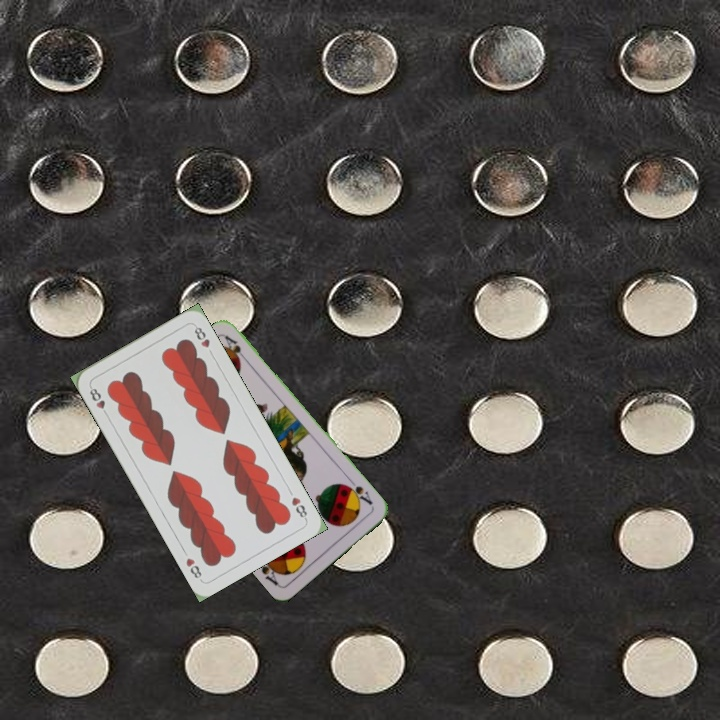H8: (85, 383, 111, 419), (287, 493, 310, 523)
SA: (341, 475, 375, 508)
